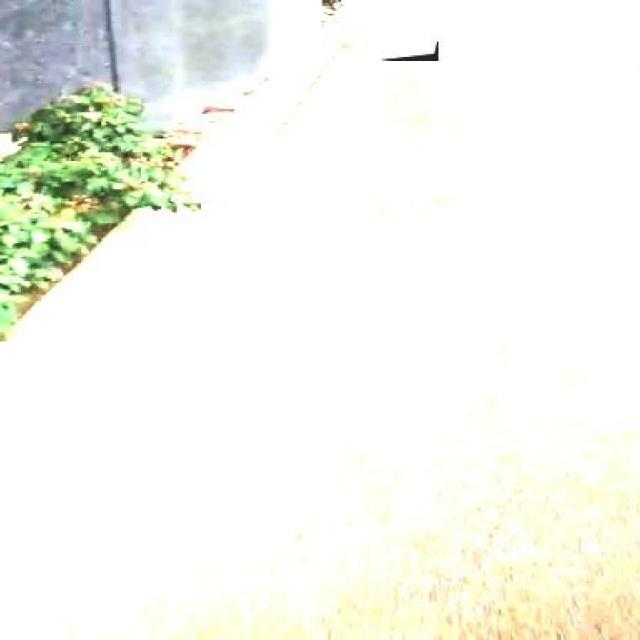Manhole: (382, 42, 438, 60)
